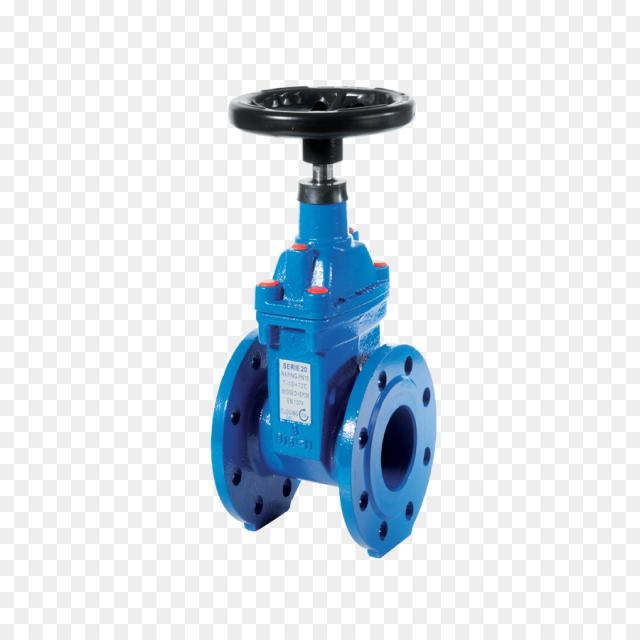Wheel Handle Valve Threaded: (204, 68, 427, 166)
